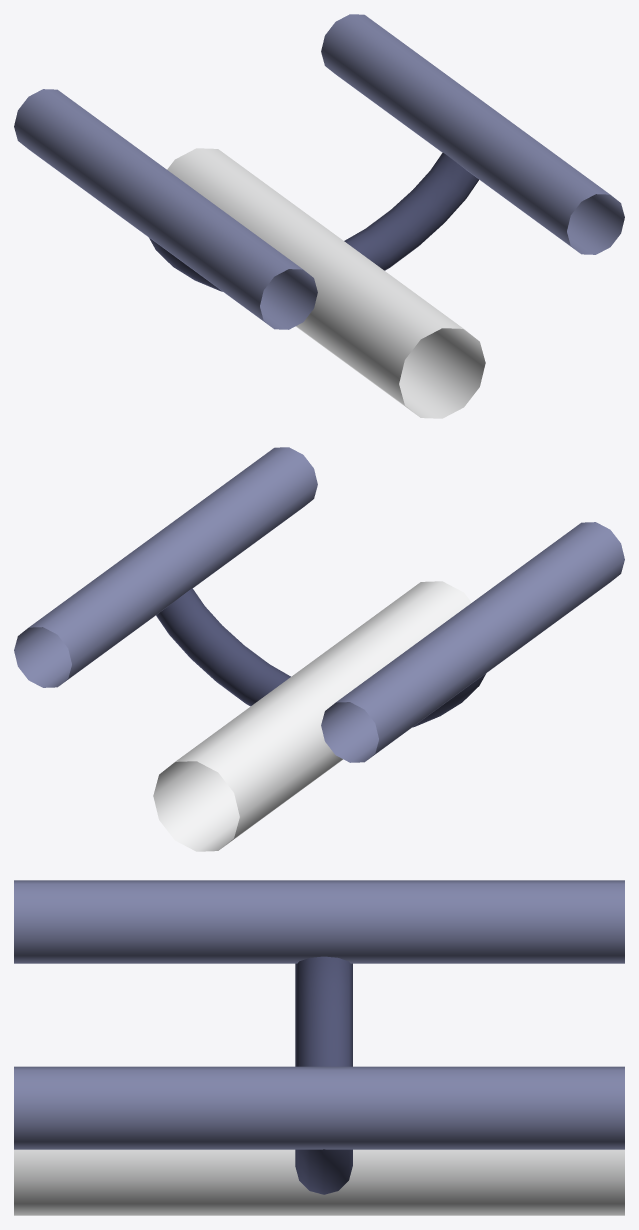
Rendered from Rail_4.fbx.
The picture shows the model from 3 angles, top to bottom: view 1: azimuth 30°, elevation 25°; view 2: azimuth 150°, elevation 25°; view 3: azimuth 270°, elevation 25°; orthographic projection. The views are drawn at different scales.
Parts seen in each view (by area): view 1: Rail_4; view 2: Rail_4; view 3: Rail_4.
Boxes of the visible parts, x1,y1,x2,y2 form: Rail_4: (14, 14, 624, 418); Rail_4: (14, 447, 624, 851); Rail_4: (14, 880, 624, 1215).
Size of the model in its own units: 274 by 134 by 319.
